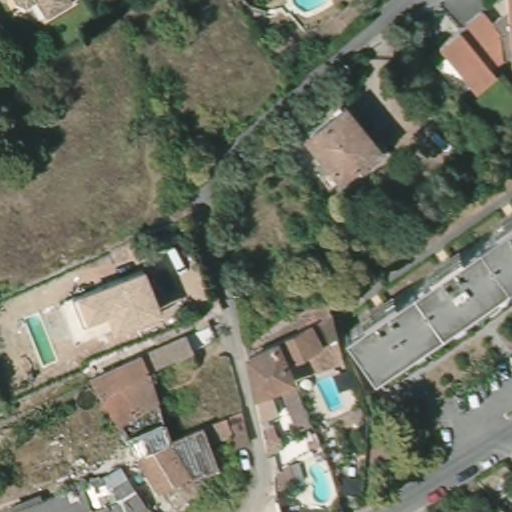pool: (23, 312, 59, 368), (306, 458, 337, 511), (313, 374, 347, 414)
